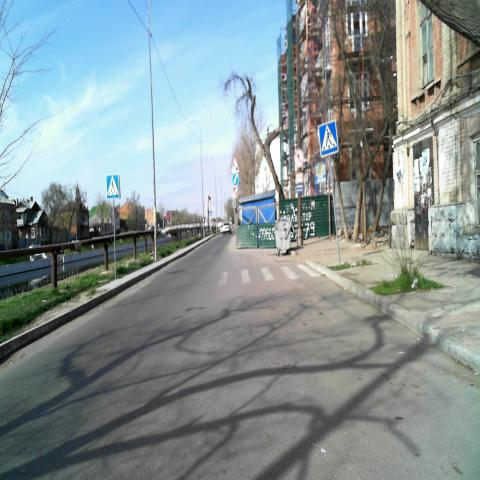3_10: (294, 149, 304, 169)
